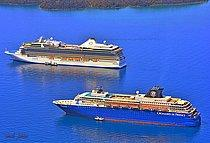Ship: (3, 33, 130, 73)
